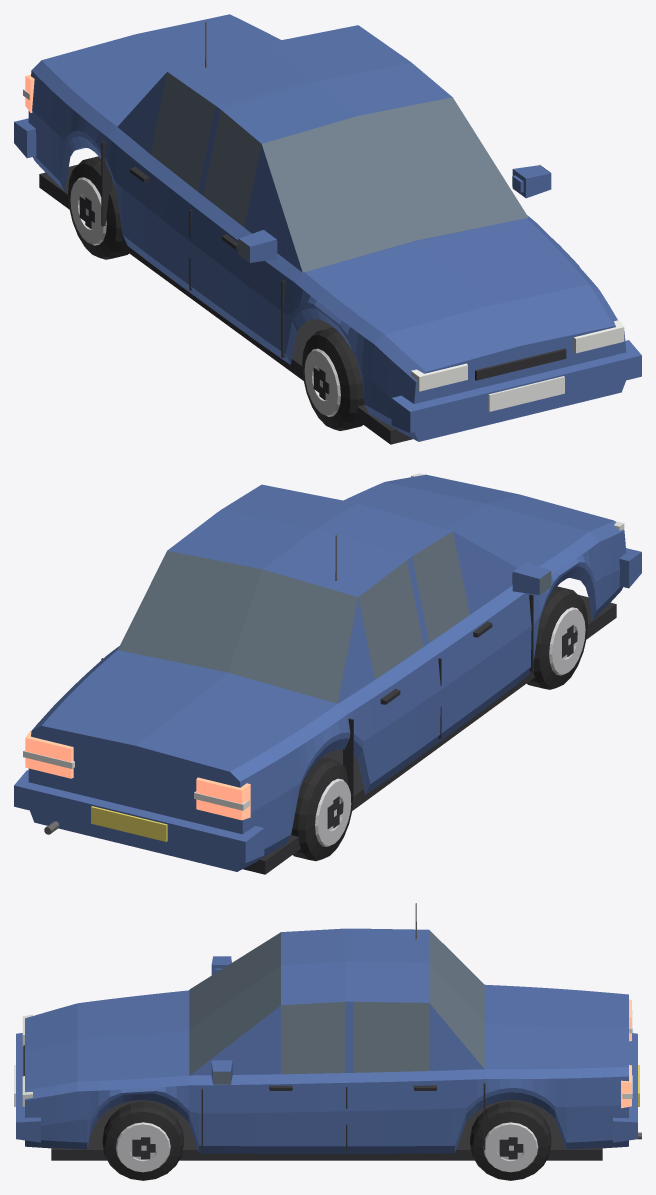
The model's file is exterior_parked_car_b.fbx.
3 views of the same model, one above another, from view 1: azimuth 30°, elevation 25°; view 2: azimuth 150°, elevation 25°; view 3: azimuth 270°, elevation 25° (orthographic). The views are drawn at different scales.
Parts seen in each view (by area): view 1: exterior_parked_car_b; view 2: exterior_parked_car_b; view 3: exterior_parked_car_b.
Boxes of the visible parts, x1,y1,x2,y2 form: exterior_parked_car_b: (14, 14, 641, 444); exterior_parked_car_b: (14, 473, 641, 874); exterior_parked_car_b: (14, 903, 641, 1180).
Bounding box in the file's own units: 2.08 × 1.76 × 4.79.
